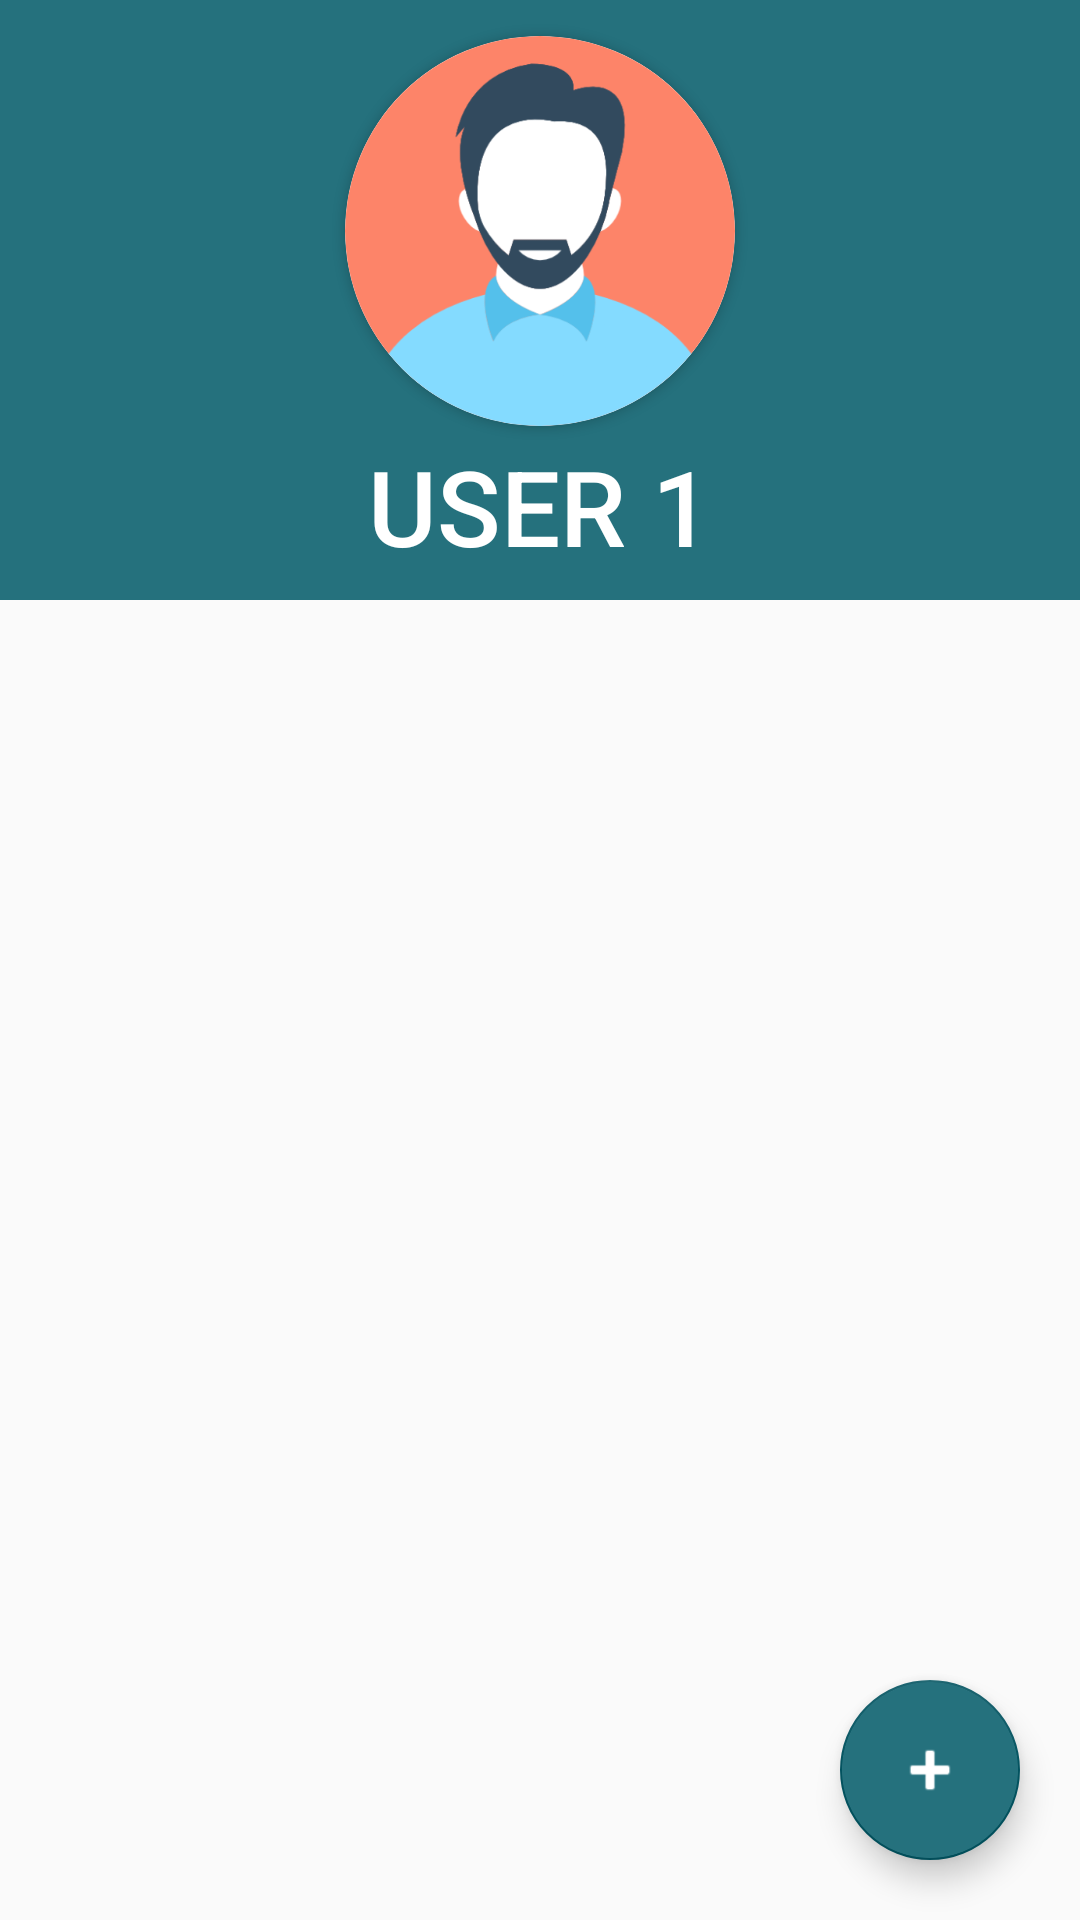

Icons on this 1080w x 1920h Android screen, each with the point to tap as (x=x, y=y):
add: (x=930, y=1770)
